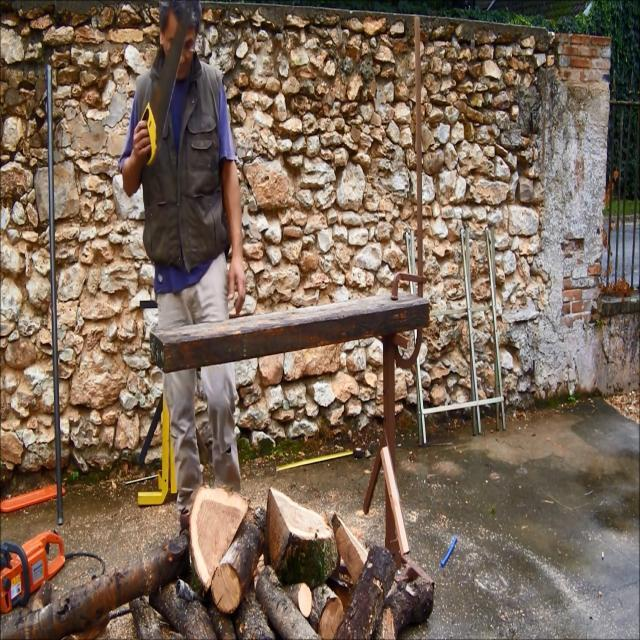Chainsaw: (0, 500, 86, 640)
